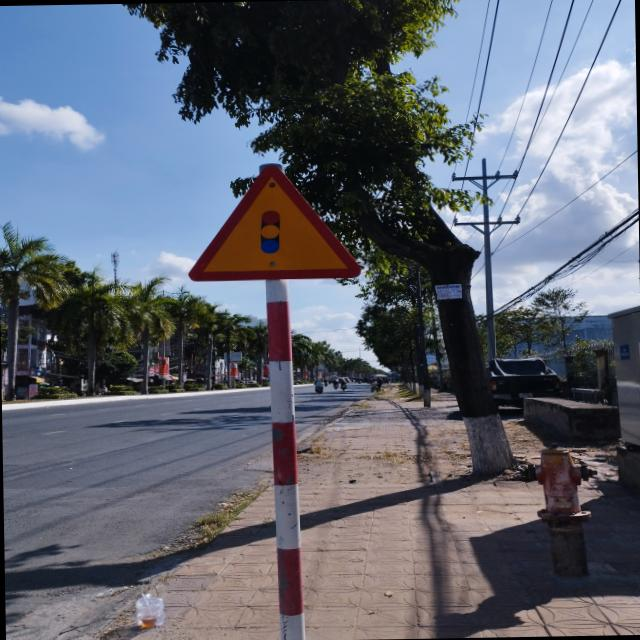Duong_Co_Go_Giam_Toc: (186, 161, 363, 282)
